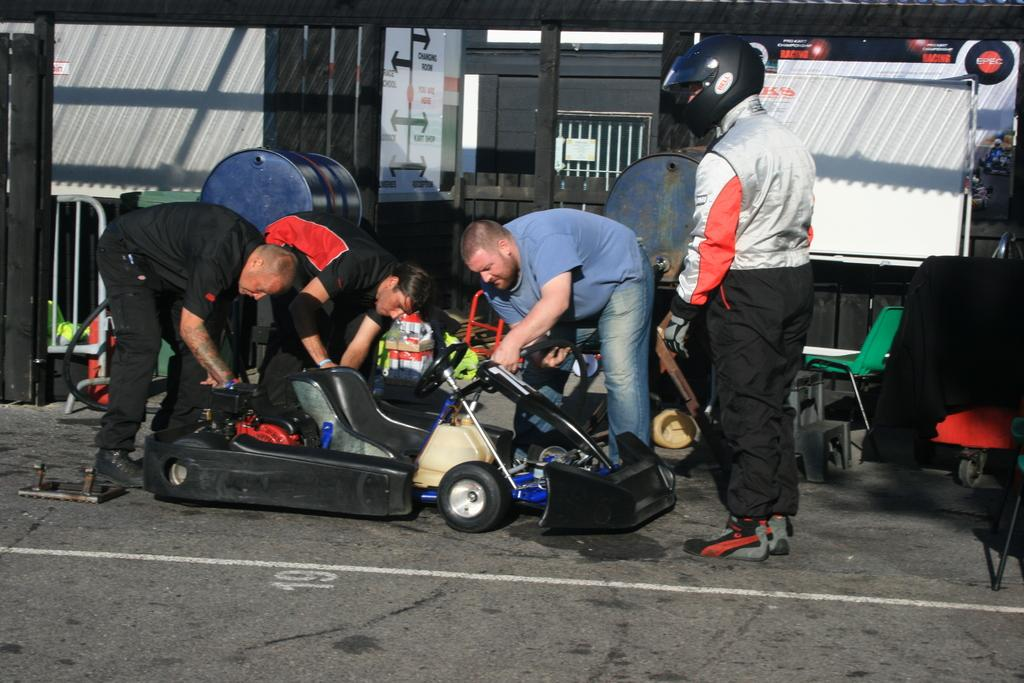helmet: (661, 34, 765, 139)
nohelmet: (459, 219, 519, 293), (235, 242, 300, 302), (374, 260, 433, 321)
